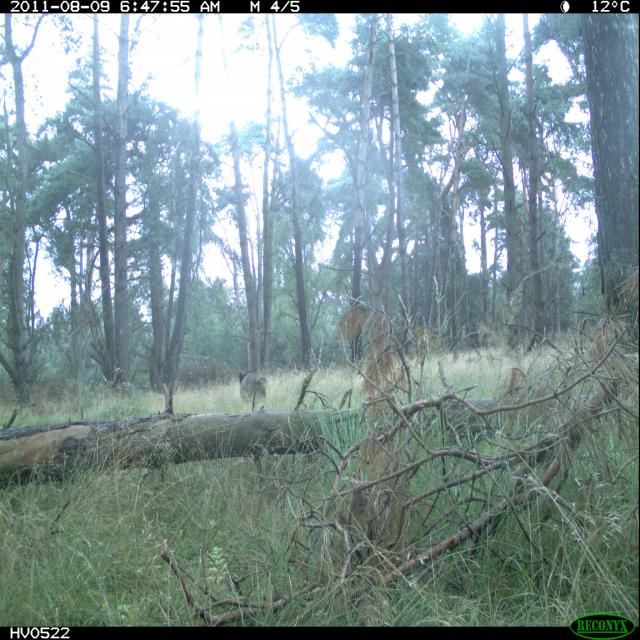boar: (230, 356, 274, 417)
